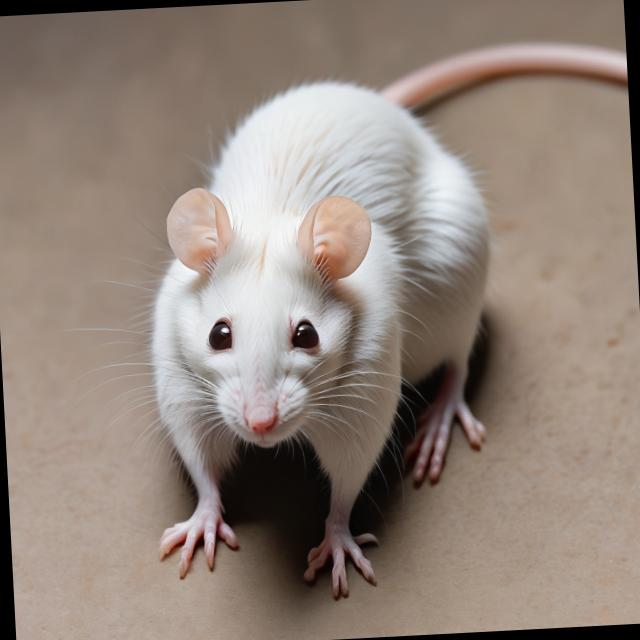rodents: (116, 59, 525, 570)
